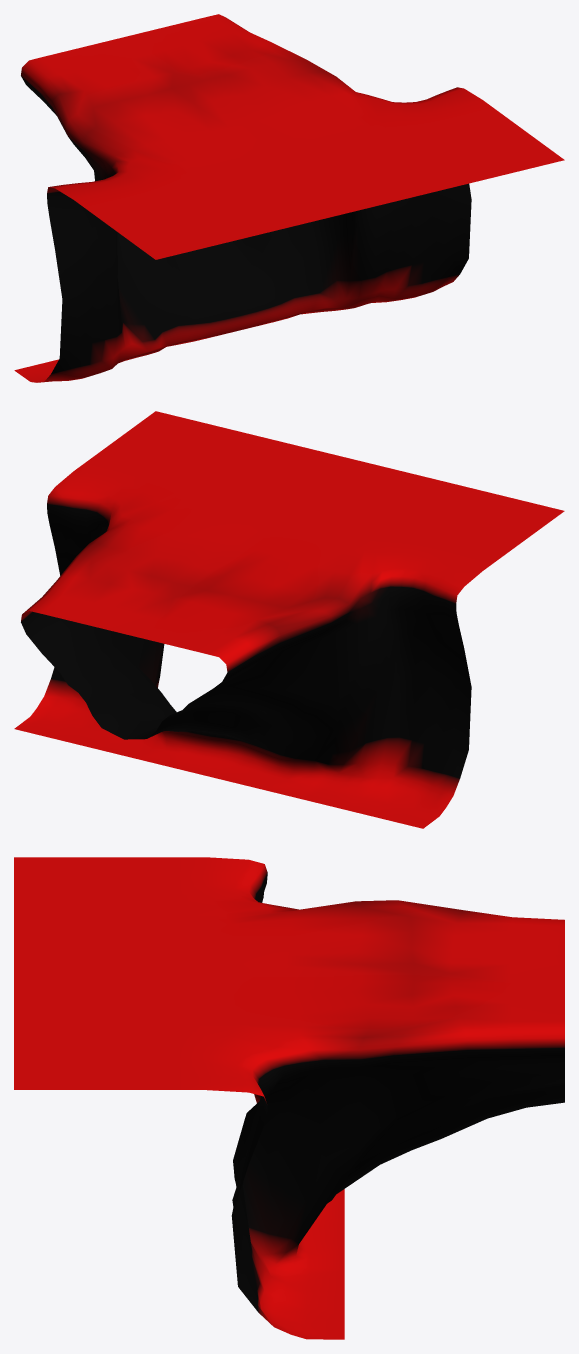
The model's file is CrossingCliff02C 1M Foreground.fbx.
3 views of the same model, one above another, from view 1: azimuth 30°, elevation 25°; view 2: azimuth 150°, elevation 25°; view 3: azimuth 270°, elevation 25° (orthographic). The views are drawn at different scales.
Visible parts, largest first — view 1: CrossingCliff02C 1M Foreground; view 2: CrossingCliff02C 1M Foreground; view 3: CrossingCliff02C 1M Foreground.
Boxes of the visible parts, left/top/right/bottom form: CrossingCliff02C 1M Foreground: left=14, top=14, right=564, bottom=382; CrossingCliff02C 1M Foreground: left=14, top=411, right=564, bottom=828; CrossingCliff02C 1M Foreground: left=14, top=857, right=564, bottom=1339.
Size of the model in its own units: 2 by 1.01 by 2.
